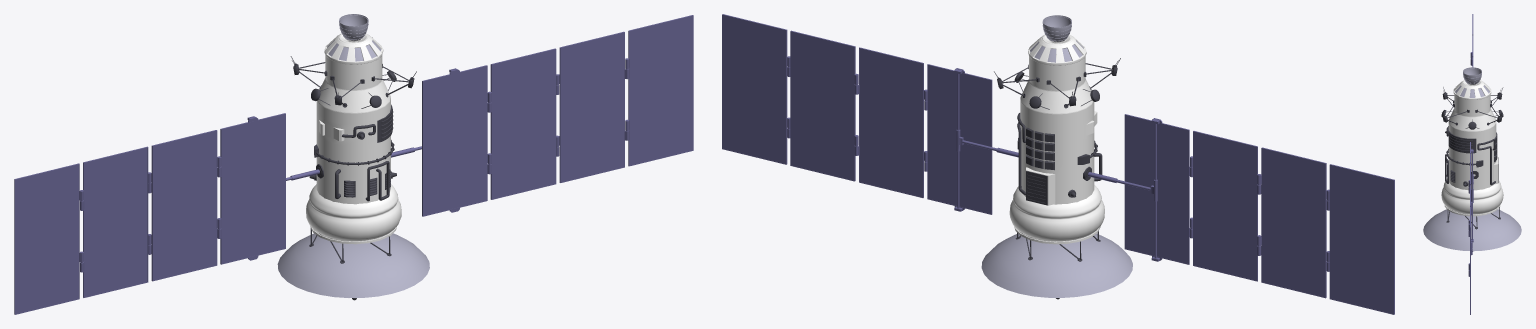
The model's file is GEO_Satellite.glb.
The picture shows the model from 3 angles, left to right: view 1: azimuth 30°, elevation 25°; view 2: azimuth 150°, elevation 25°; view 3: azimuth 270°, elevation 25°; orthographic projection. The views are drawn at different scales.
Visible parts, largest first — view 1: Object_12, Object_14, Object_18, Object_16; view 2: Object_12, Object_14, Object_18, Object_16; view 3: Object_18, Object_16, Object_14, Object_12.
Part boxes in pixels (left/top/right/bottom): Object_12: left=14, top=113, right=319, bottom=314; Object_14: left=391, top=15, right=693, bottom=216; Object_18: left=277, top=14, right=429, bottom=297; Object_16: left=290, top=37, right=416, bottom=300; Object_12: left=1088, top=114, right=1394, bottom=314; Object_14: left=722, top=14, right=1018, bottom=214; Object_18: left=981, top=15, right=1132, bottom=297; Object_16: left=994, top=58, right=1120, bottom=299; Object_18: left=1423, top=67, right=1521, bottom=251; Object_16: left=1441, top=87, right=1503, bottom=251; Object_14: left=1468, top=142, right=1473, bottom=314; Object_12: left=1470, top=14, right=1473, bottom=67.
Bounding box in the file's own units: 12.8 × 5.05 × 2.5.
